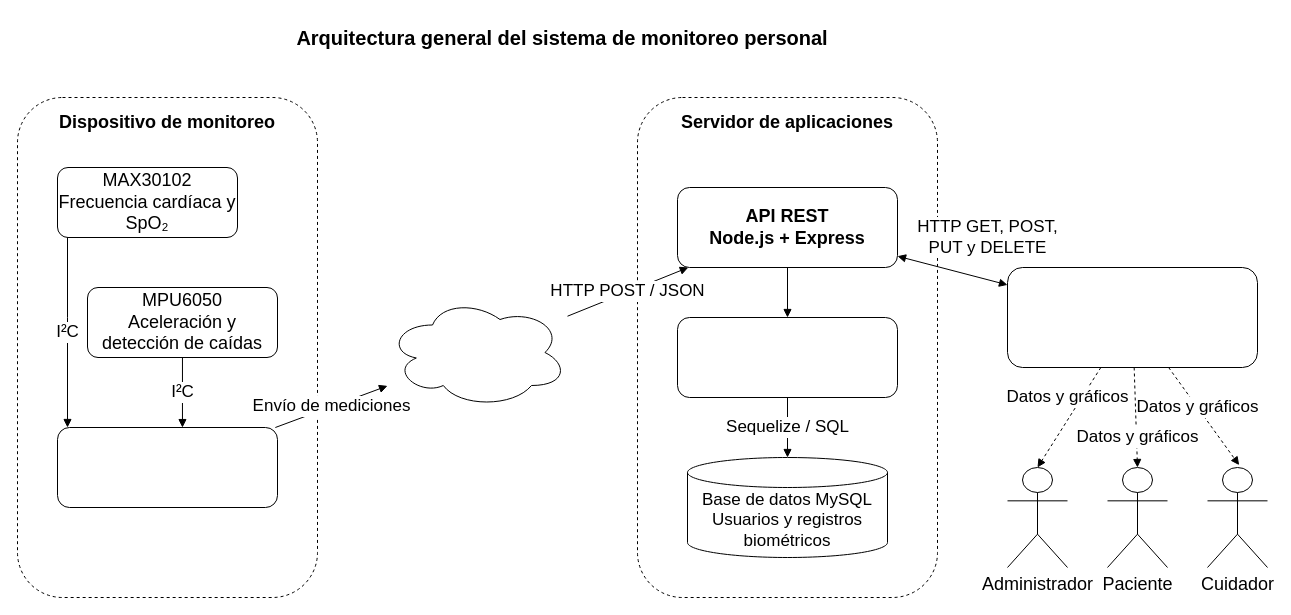
The diagram is 1291 pixels wide and 615 high, and some of its shapes have lost their labels. Each missing label, with the centre of its shape:
"ESP32 Procesamiento y conectividad Wi‑Fi" goes at (167,467).
"Lógica de negocio Rutas, controladores y middlewares" goes at (787,357).
"Plataforma web Consulta, administración y gráficos" goes at (1132,317).
"Red Wi‑Fi HTTP + JSON" goes at (477,352).
